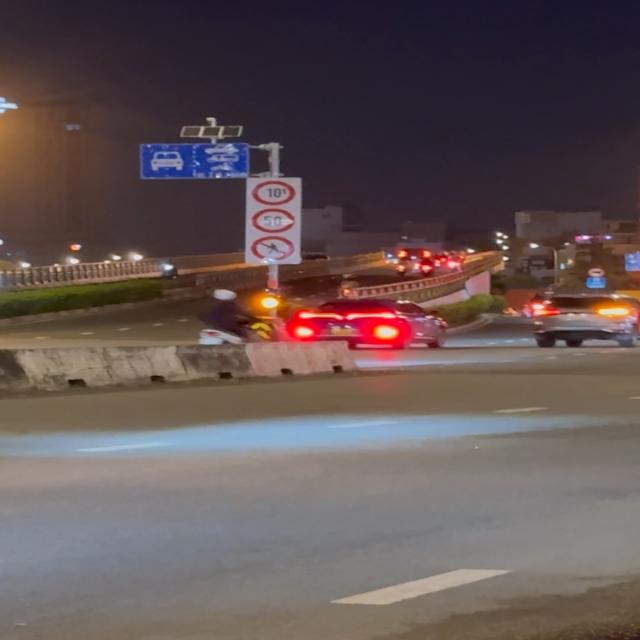Bien bao cam nguoi di bo: (248, 235, 296, 262)
Bien bao toc do toi da cho phep: (252, 208, 294, 234)
